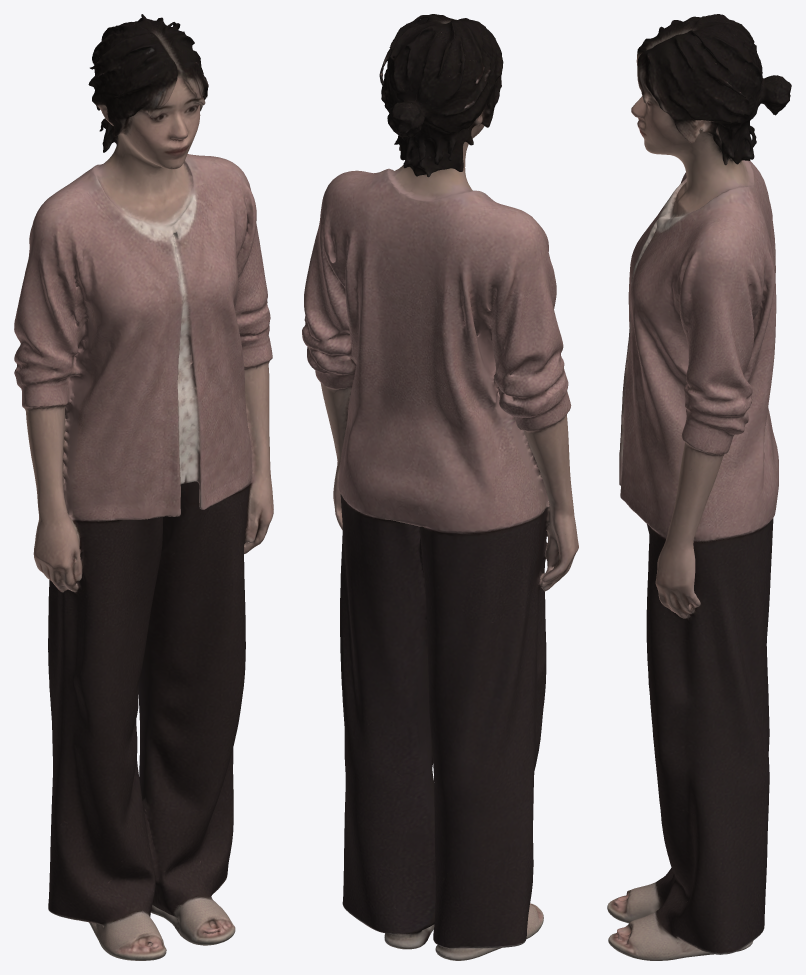
The model's file is Model_Mommy_1003102125_texture.glb.
The picture shows the model from 3 angles, left to right: view 1: azimuth 30°, elevation 25°; view 2: azimuth 150°, elevation 25°; view 3: azimuth 270°, elevation 25°; orthographic projection. The views are drawn at different scales.
Bounding box in the file's own units: 0.5462 × 1.89 × 0.3465.
1 material, 1 textured.
